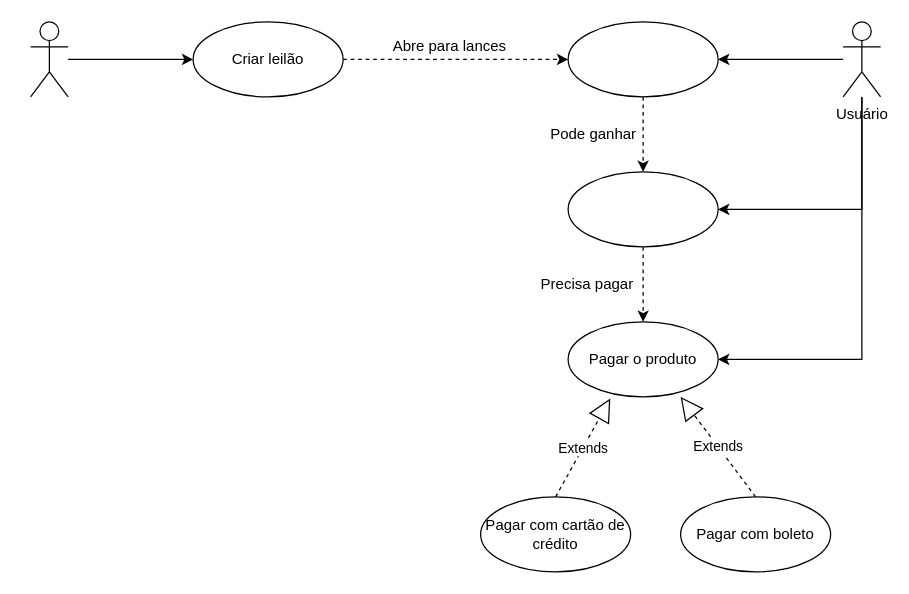
Some shapes in this 909 by 594 pixel diagram are drawn without their labels. Each missing label, with the centre of its shape:
"Dar lances" goes at (x=642, y=59).
"Ganhar o leilão" goes at (x=642, y=209).
"Leiloeiro" goes at (x=48, y=59).
